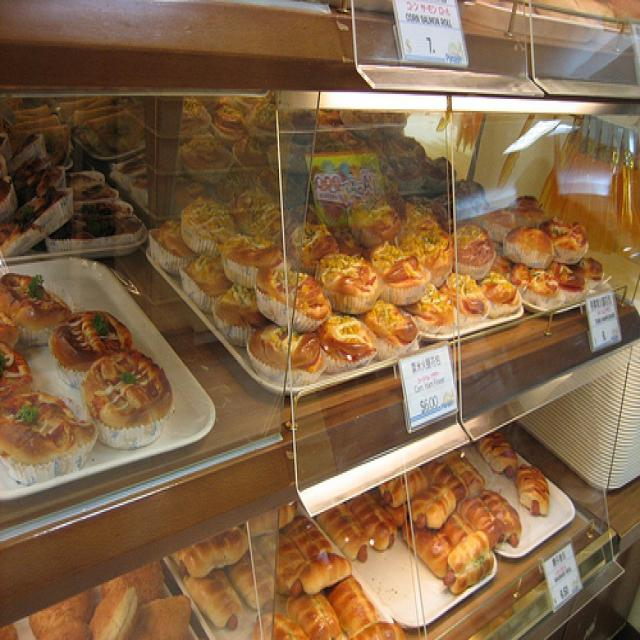bread: (316, 466, 490, 587), (424, 451, 522, 546), (475, 435, 548, 514)
cake occluded: (78, 346, 173, 445), (46, 309, 131, 384)
cakes: (142, 184, 415, 381), (337, 195, 518, 326), (475, 191, 599, 295)
floor -X: (608, 582, 639, 638)
sign: (396, 340, 457, 430), (538, 536, 581, 611), (584, 287, 621, 350)
tray: (143, 247, 416, 394), (312, 461, 498, 628), (526, 278, 612, 314)
tray occluded: (1, 254, 215, 497), (422, 433, 573, 555), (411, 299, 527, 340)
